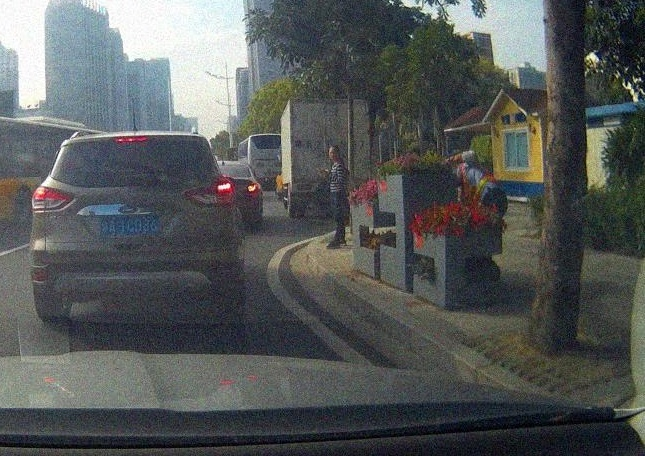L_light: (32, 186, 76, 212)
R_light: (181, 177, 236, 207)
T_light: (115, 137, 147, 143)
day-right: (32, 129, 241, 321)
